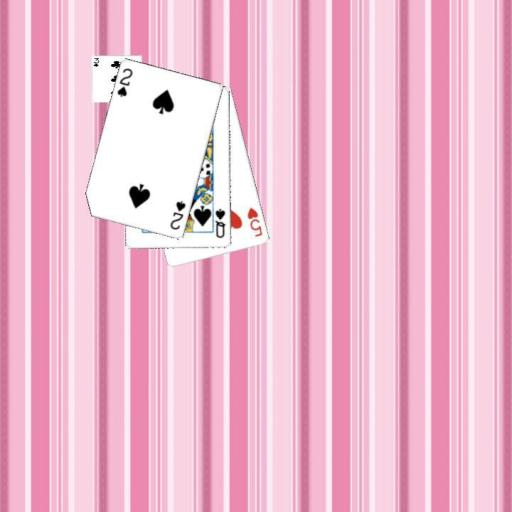2S: (167, 198, 187, 232), (114, 65, 134, 99)
5H: (245, 204, 264, 239)
QS: (212, 206, 227, 240)
